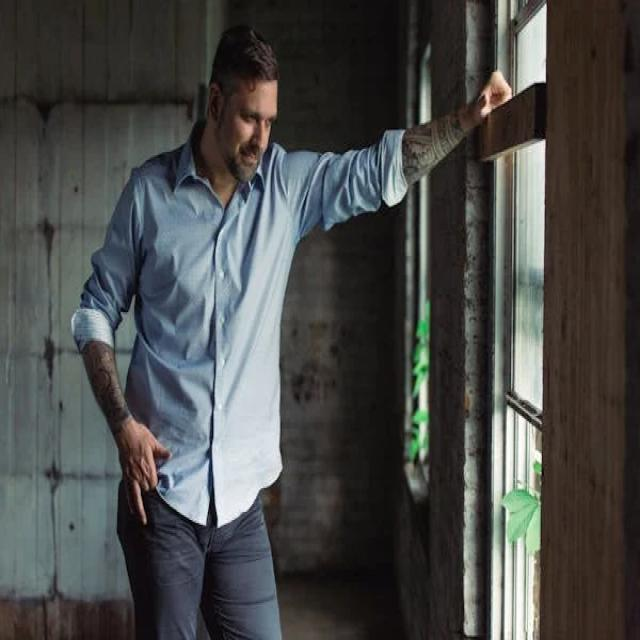Real human 2: (65, 16, 332, 640)
